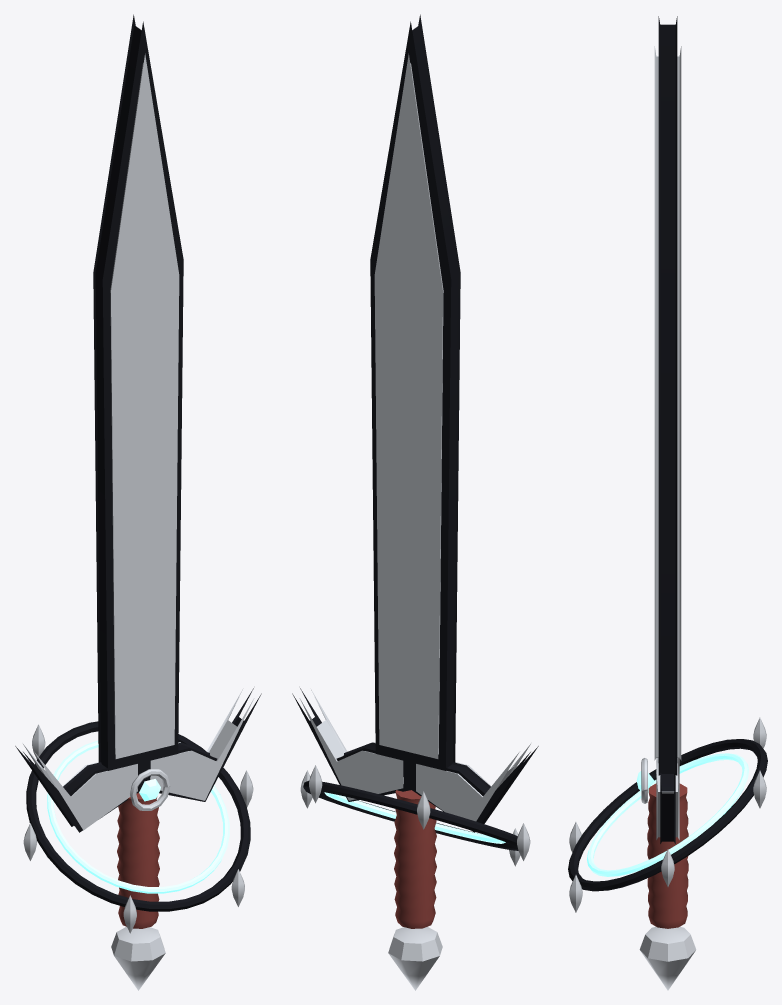
Rendered from esc_w_knight_sword_8.glb.
3 views of the same model, side by side, from view 1: azimuth 30°, elevation 25°; view 2: azimuth 150°, elevation 25°; view 3: azimuth 270°, elevation 25° (orthographic).
Parts seen in each view (by area): view 1: esc_w_knight_sword_8; view 2: esc_w_knight_sword_8; view 3: esc_w_knight_sword_8.
Boxes of the visible parts, x1,y1,x2,y2 form: esc_w_knight_sword_8: (15,14,261,990); esc_w_knight_sword_8: (292,14,538,990); esc_w_knight_sword_8: (568,16,767,990).
Bounding box in the file's own units: 0.3238 × 1.25 × 0.2324.
